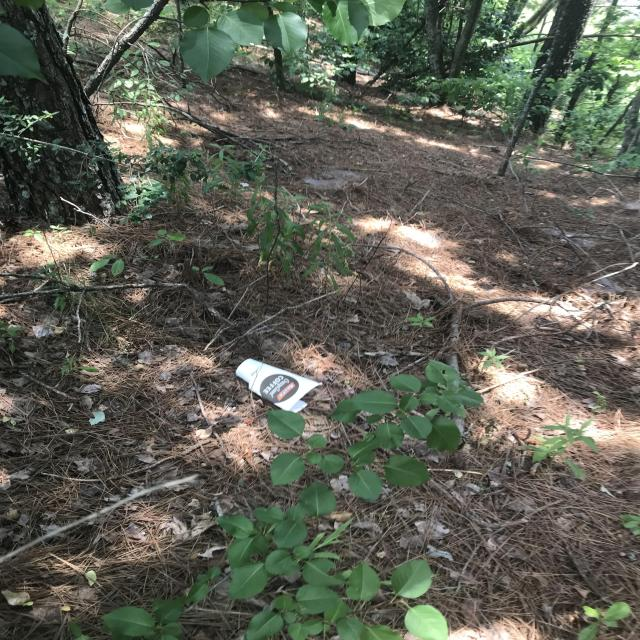litter: (235, 359, 316, 411)
